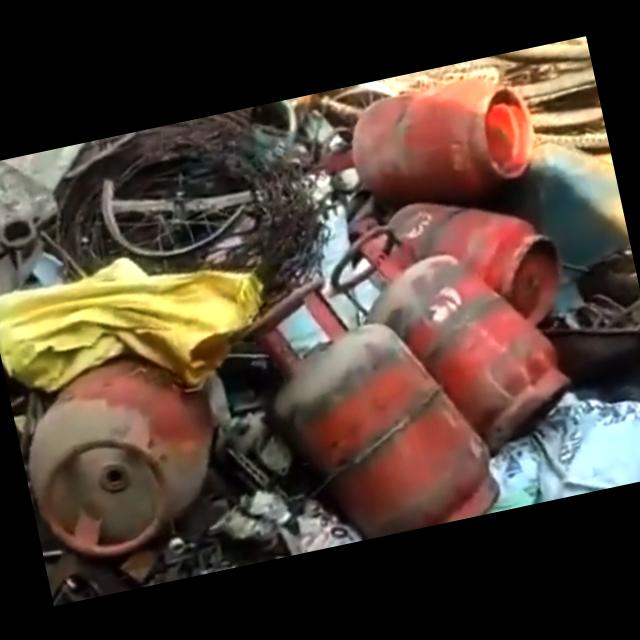Cylinders: (243, 285, 503, 538), (328, 222, 570, 450), (349, 73, 536, 200), (372, 199, 557, 314)
